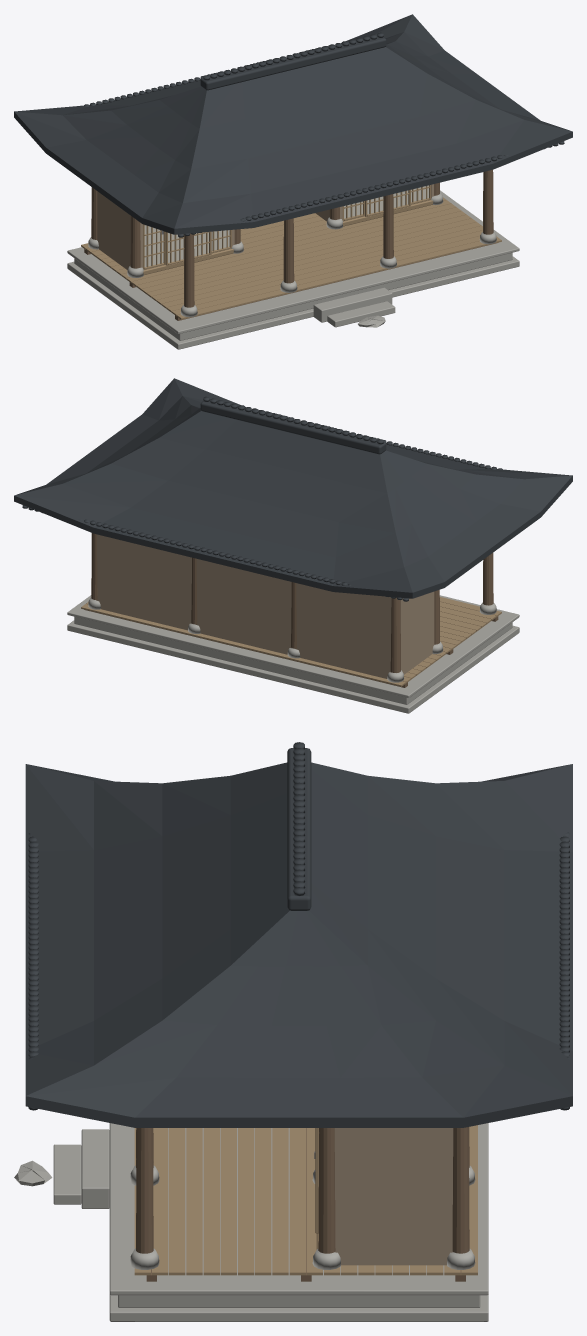
The model's file is hanok.glb.
3 renders of one model, top to bottom at view 1: azimuth 30°, elevation 25°; view 2: azimuth 150°, elevation 25°; view 3: azimuth 270°, elevation 25°, orthographic. The views are drawn at different scales.
Parts seen in each view (by area): view 1: hanok-main-house_0; view 2: hanok-main-house_0; view 3: hanok-main-house_0.
Boxes of the visible parts, x1,y1,x2,y2 form: hanok-main-house_0: (14, 14, 572, 349); hanok-main-house_0: (14, 378, 572, 713); hanok-main-house_0: (14, 742, 572, 1321).
Bounding box in the file's own units: 11.2 × 5.72 × 7.96.
